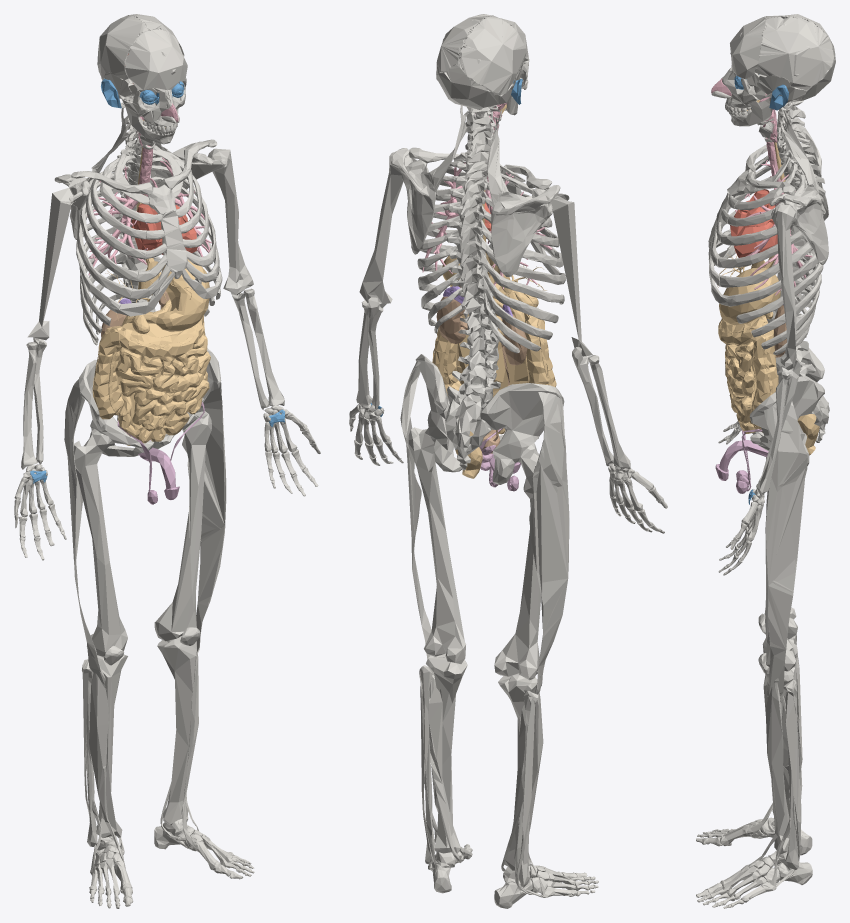
File: body.glb
3 views of the same model, side by side, from view 1: azimuth 30°, elevation 25°; view 2: azimuth 150°, elevation 25°; view 3: azimuth 270°, elevation 25° (orthographic). The views are drawn at different scales.
Parts seen in each view (by area): view 1: skeletal-1, skeletal-0, digestive-6, respiratory-8, reproductive-9, sensory-2, cardiac-3, digestive-7; view 2: skeletal-1, skeletal-0, digestive-6, urinary-10, digestive-7, respiratory-8, reproductive-9; view 3: skeletal-0, skeletal-1, digestive-6, respiratory-8, cardiac-3, reproductive-9, sensory-2.
Boxes of the visible parts, left/top/right/bottom form: skeletal-1: left=14, top=14, right=314, bottom=904; skeletal-0: left=14, top=29, right=320, bottom=908; digestive-6: left=92, top=120, right=210, bottom=445; respiratory-8: left=87, top=103, right=211, bottom=275; reproductive-9: left=117, top=402, right=204, bottom=504; sensory-2: left=30, top=78, right=284, bottom=483; cardiac-3: left=127, top=53, right=197, bottom=254; digestive-7: left=117, top=323, right=195, bottom=422; skeletal-1: left=349, top=14, right=661, bottom=908; skeletal-0: left=349, top=15, right=667, bottom=897; digestive-6: left=432, top=104, right=556, bottom=478; urinary-10: left=436, top=296, right=527, bottom=453; digestive-7: left=455, top=313, right=531, bottom=396; respiratory-8: left=422, top=103, right=552, bottom=289; reproductive-9: left=479, top=428, right=520, bottom=491; skeletal-0: left=696, top=16, right=825, bottom=908; skeletal-1: left=702, top=14, right=835, bottom=907; digestive-6: left=717, top=100, right=819, bottom=455; respiratory-8: left=711, top=78, right=812, bottom=295; cardiac-3: left=730, top=189, right=777, bottom=257; reproductive-9: left=715, top=429, right=768, bottom=493; sensory-2: left=734, top=74, right=788, bottom=504.
Size of the model in its own units: 0.6478 by 1.71 by 0.2539.
